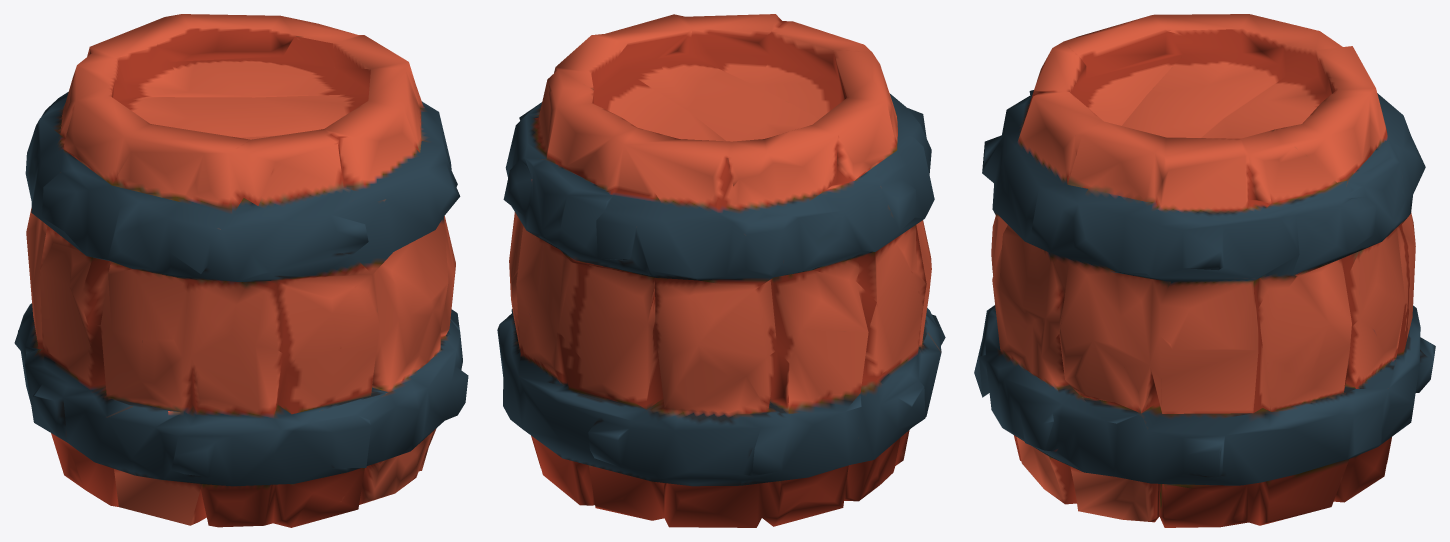
File: barrel.glb
3 renders of one model, left to right at view 1: azimuth 30°, elevation 25°; view 2: azimuth 150°, elevation 25°; view 3: azimuth 270°, elevation 25°, orthographic.
Visible parts, largest first — view 1: tripo_node_a2c410c8-8041-4afd-94a0-8a5ec38155f3; view 2: tripo_node_a2c410c8-8041-4afd-94a0-8a5ec38155f3; view 3: tripo_node_a2c410c8-8041-4afd-94a0-8a5ec38155f3.
Boxes of the visible parts, <box> form: tripo_node_a2c410c8-8041-4afd-94a0-8a5ec38155f3: <box>14,14,468,527</box>; tripo_node_a2c410c8-8041-4afd-94a0-8a5ec38155f3: <box>497,14,945,527</box>; tripo_node_a2c410c8-8041-4afd-94a0-8a5ec38155f3: <box>974,14,1435,527</box>.
Bounding box in the file's own units: 1 × 0.8848 × 0.9934.
1 material, 1 textured.
